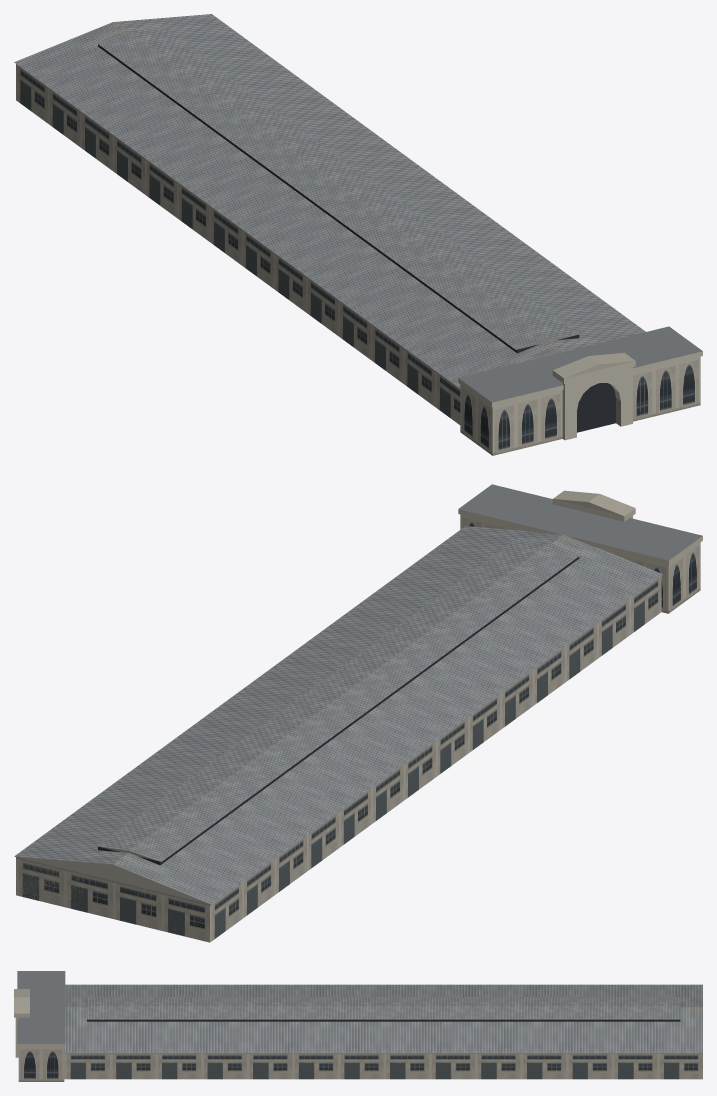
The model's file is embarcadero_pier_shed.glb.
3 renders of one model, top to bottom at view 1: azimuth 30°, elevation 25°; view 2: azimuth 150°, elevation 25°; view 3: azimuth 270°, elevation 25°, orthographic. The views are drawn at different scales.
Parts seen in each view (by area): view 1: embarcadero_pier_shed; view 2: embarcadero_pier_shed; view 3: embarcadero_pier_shed.
Part boxes in pixels (x1=…): embarcadero_pier_shed: x1=14, y1=14, x2=702, y2=455; embarcadero_pier_shed: x1=14, y1=484, x2=702, y2=942; embarcadero_pier_shed: x1=14, y1=971, x2=702, y2=1081.
Size of the model in its own units: 45.01 by 14 by 180.
2 materials, 2 textured.
